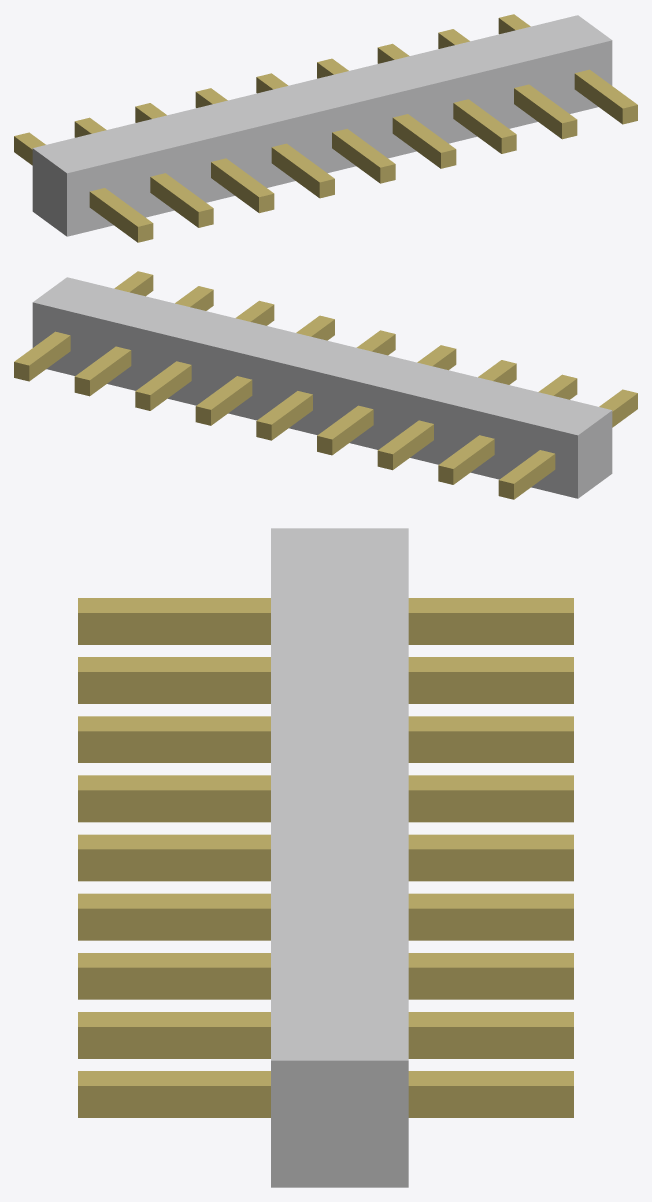
File: pin_header_254_9pin.glb
3 views of the same model, one above another, from view 1: azimuth 30°, elevation 25°; view 2: azimuth 150°, elevation 25°; view 3: azimuth 270°, elevation 25° (orthographic). The views are drawn at different scales.
Visible parts, largest first — view 1: housing, pins; view 2: housing, pins; view 3: pins, housing.
Boxes of the visible parts, box(x1,y1,x2,y2) form: housing: box(32, 15, 612, 236); pins: box(14, 14, 637, 242); housing: box(32, 277, 612, 498); pins: box(14, 271, 637, 499); pins: box(78, 598, 573, 1117); housing: box(271, 528, 408, 1187).
Size of the model in its own units: 22.86 by 2.54 by 9.
